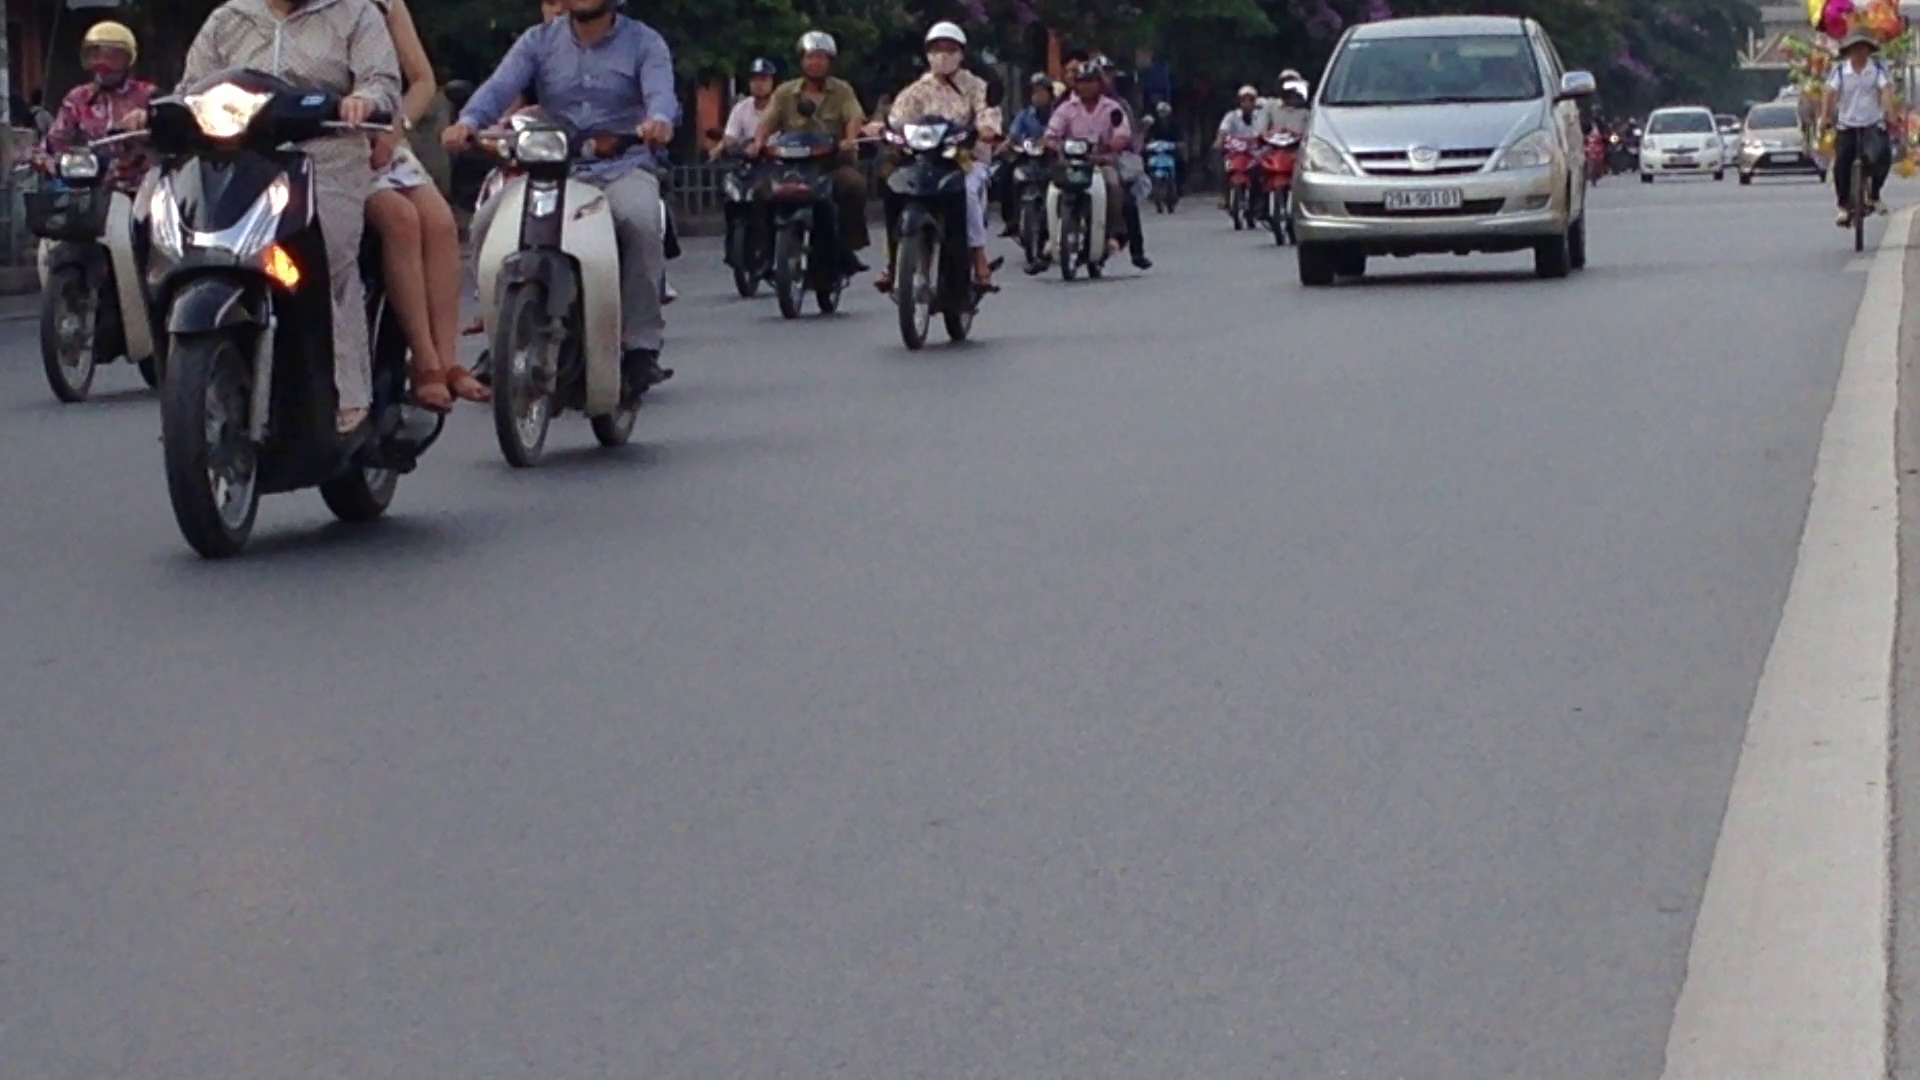person: (1379, 180, 1466, 211)
